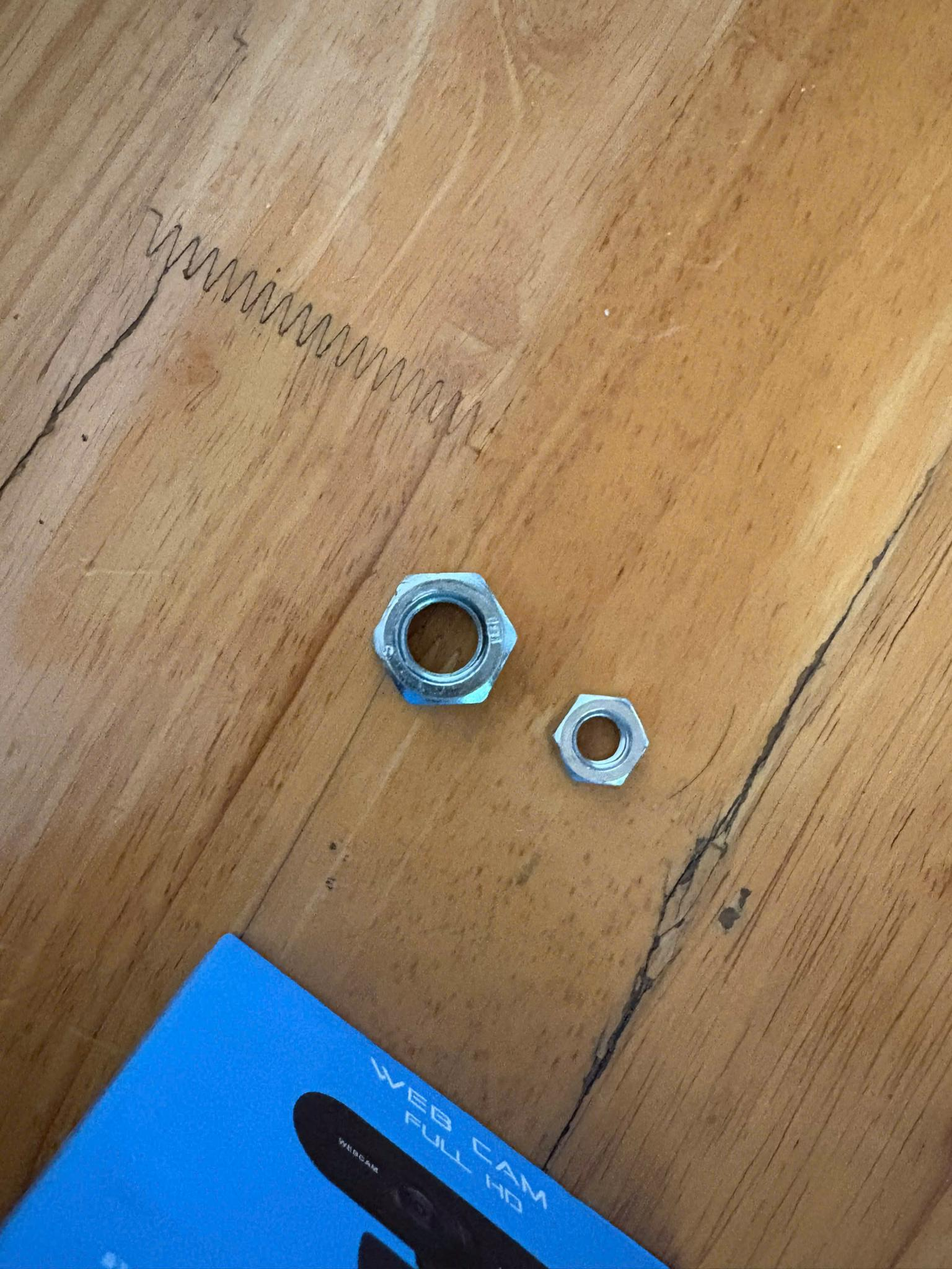nut: (359, 556, 524, 738), (550, 690, 660, 797)
